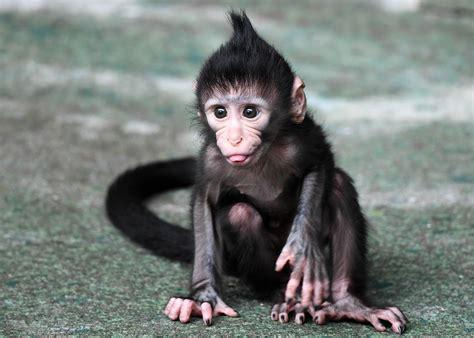monkey: (105, 21, 410, 329)
